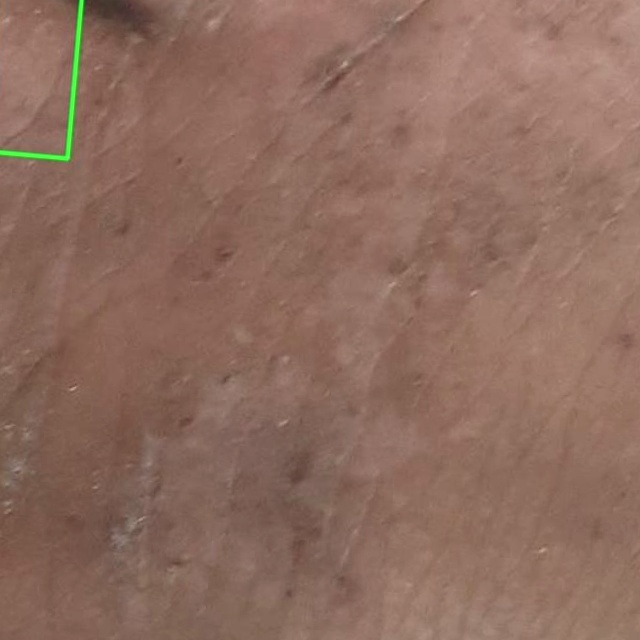Eczema: (0, 0, 81, 158)
